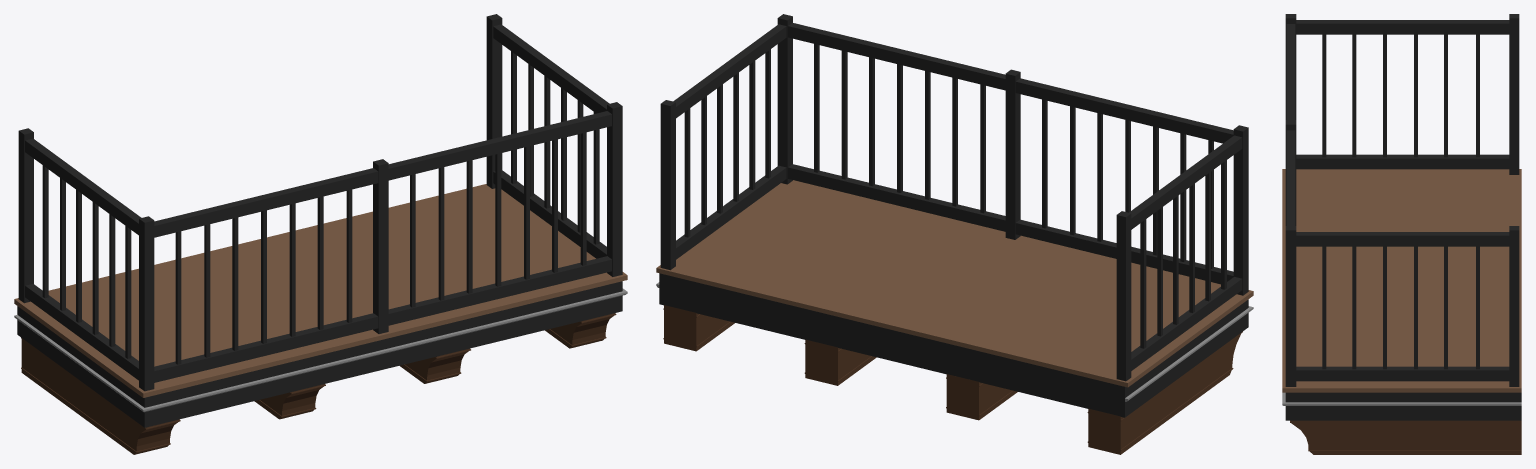
The model's file is Terrace.fbx.
3 renders of one model, left to right at view 1: azimuth 30°, elevation 25°; view 2: azimuth 150°, elevation 25°; view 3: azimuth 270°, elevation 25°, orthographic. The views are drawn at different scales.
Parts seen in each view (by area): view 1: terrace; view 2: terrace; view 3: terrace.
Boxes of the visible parts, x1=… form: terrace: x1=14, y1=14, x2=627, y2=454; terrace: x1=656, y1=14, x2=1253, y2=454; terrace: x1=1282, y1=14, x2=1521, y2=454.
Bounding box in the file's own units: 4.97 × 2.39 × 2.29.
